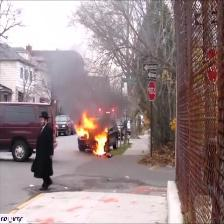fire: (76, 109, 111, 158)
